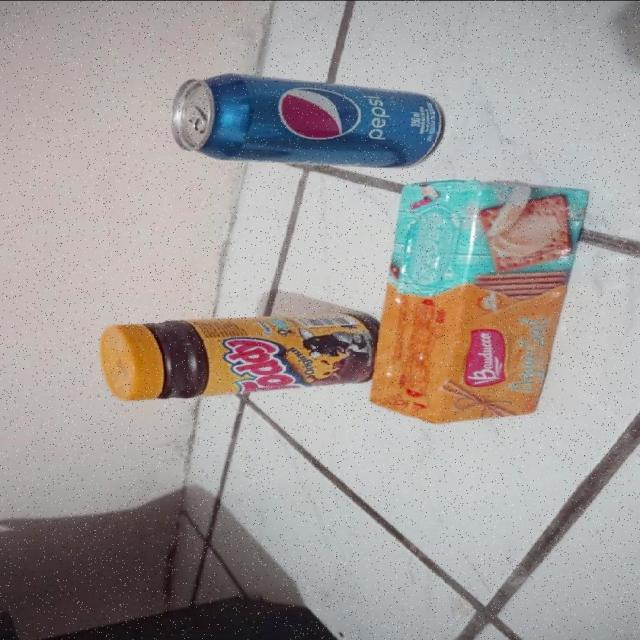ChocolatePowder: (100, 306, 388, 402)
Cracker: (368, 176, 592, 425)
SodaCan: (168, 72, 456, 168)
